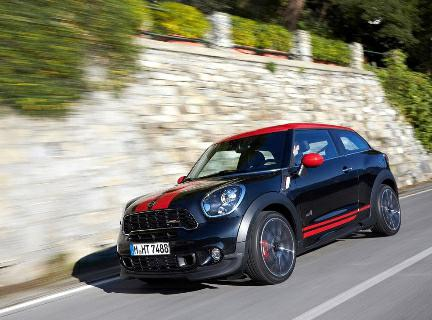MINI-JCWPACEMAN: (103, 120, 411, 288)
